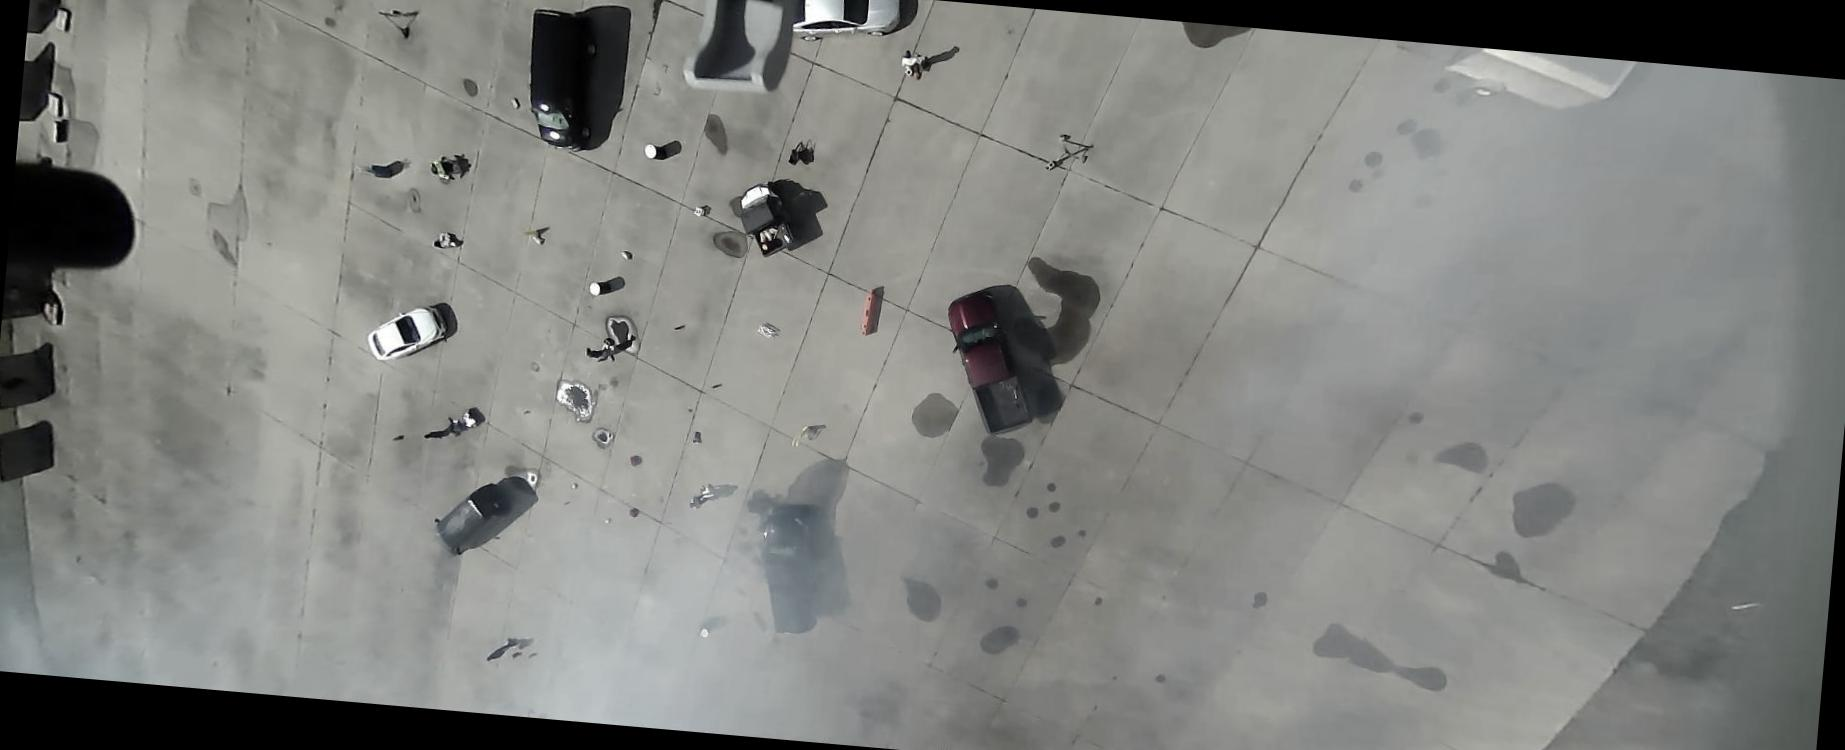vehicle: (937, 288, 1043, 439), (520, 7, 600, 153), (754, 513, 825, 636), (364, 300, 449, 366), (791, 0, 904, 49), (431, 483, 505, 557), (735, 181, 800, 259)
